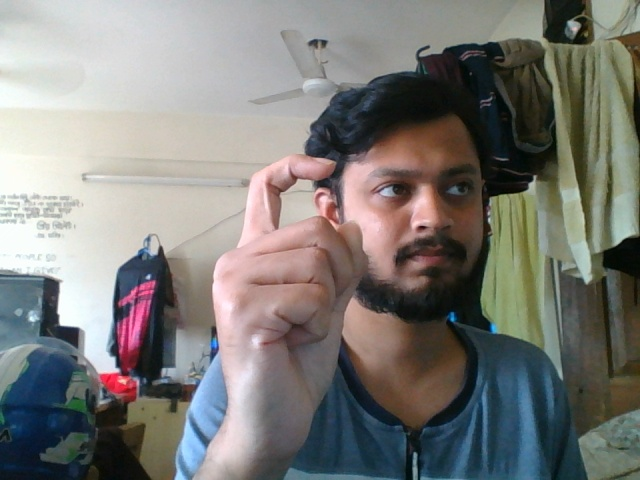e: (203, 145, 372, 476)
